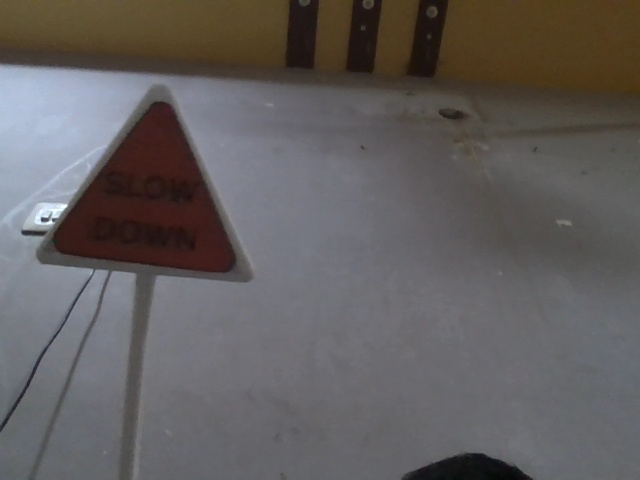slowdown: (38, 76, 235, 299)
